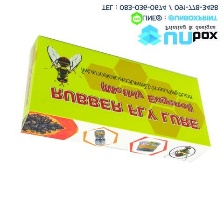insecticide: (17, 32, 213, 165)
